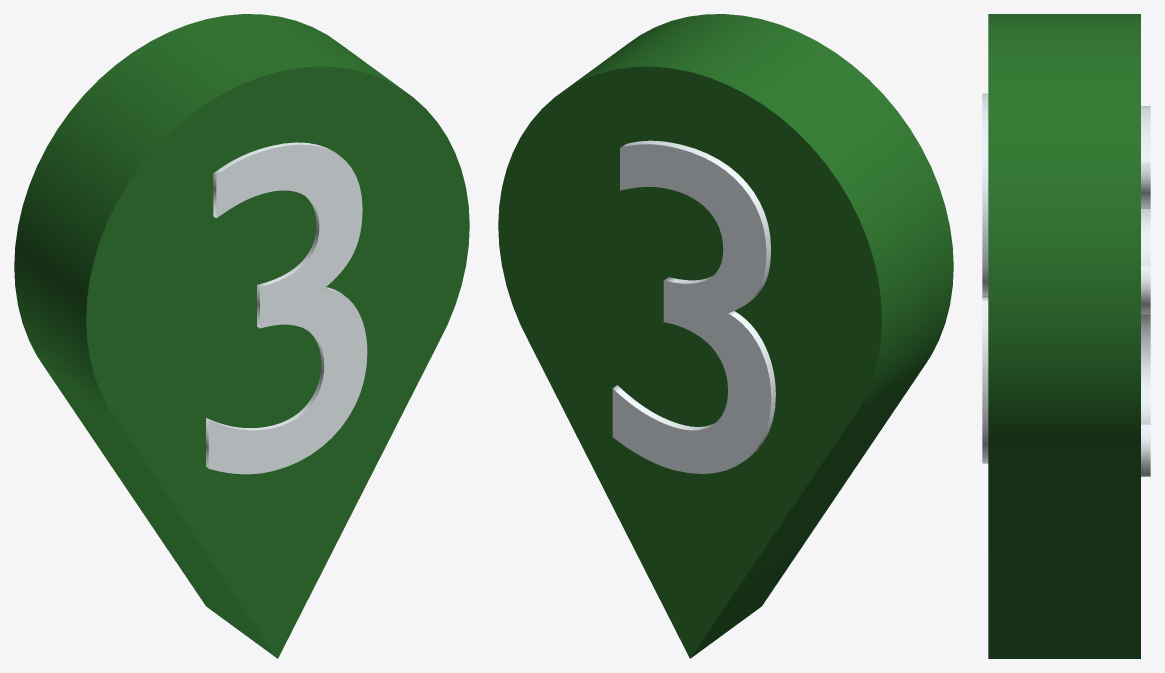
The model's file is setubi_pin.glb.
3 renders of one model, left to right at view 1: azimuth 30°, elevation 25°; view 2: azimuth 150°, elevation 25°; view 3: azimuth 270°, elevation 25°, orthographic. The views are drawn at different scales.
Parts seen in each view (by area): view 1: 円.015, テキスト.037; view 2: 円.015, テキスト.036; view 3: 円.015, テキスト.036, テキスト.037.
Boxes of the visible parts, left/top/right/bottom form: 円.015: left=14, top=14, right=469, bottom=658; テキスト.037: left=206, top=142, right=367, bottom=474; 円.015: left=498, top=14, right=953, bottom=658; テキスト.036: left=612, top=140, right=775, bottom=473; 円.015: left=988, top=14, right=1140, bottom=658; テキスト.036: left=1141, top=106, right=1150, bottom=476; テキスト.037: left=982, top=93, right=988, bottom=463.
Size of the model in its own units: 2 by 2.92 by 0.7172.
3 materials, 3 textured.
